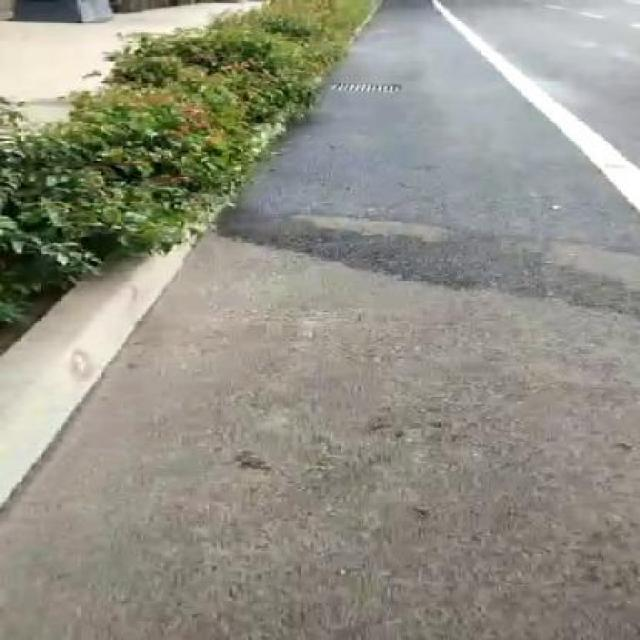Manhole: (326, 76, 404, 95)
